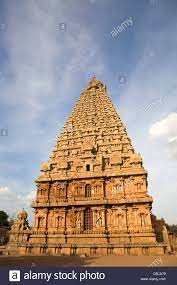Temple: (11, 77, 168, 249)
